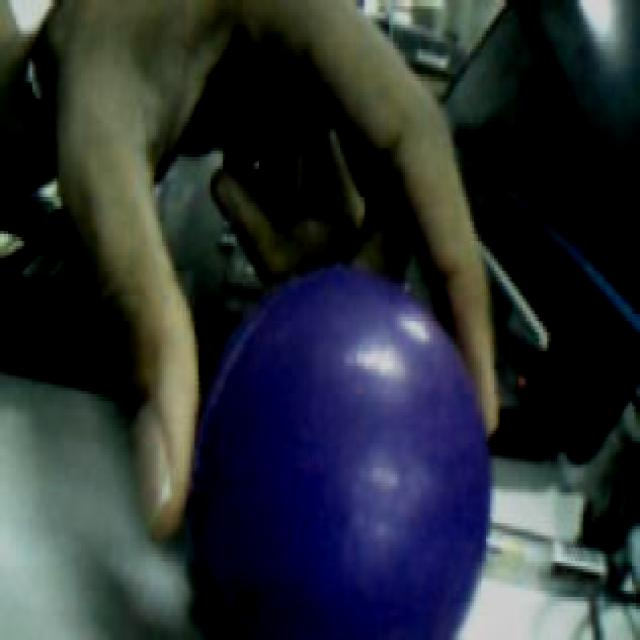BallPurple: (194, 258, 493, 640)
